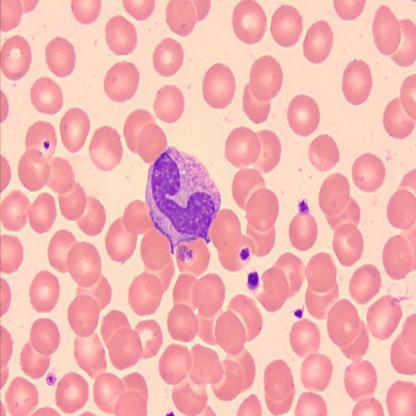Monocyte: (143, 144, 223, 258)
